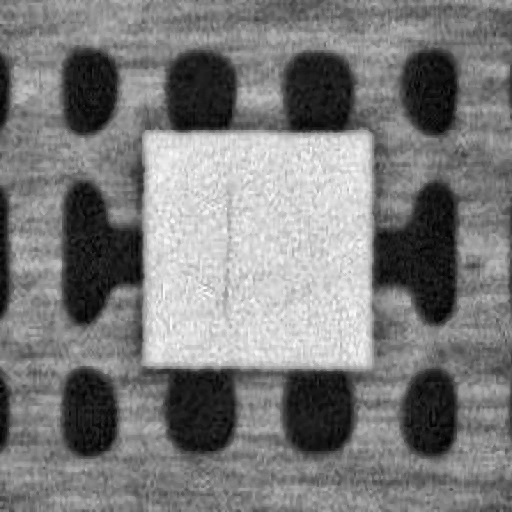DIE_CRACK: (212, 186, 236, 308)
